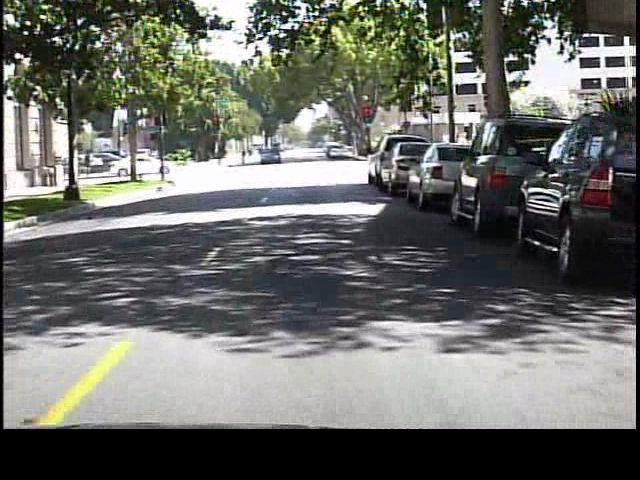person: (237, 143, 251, 166)
